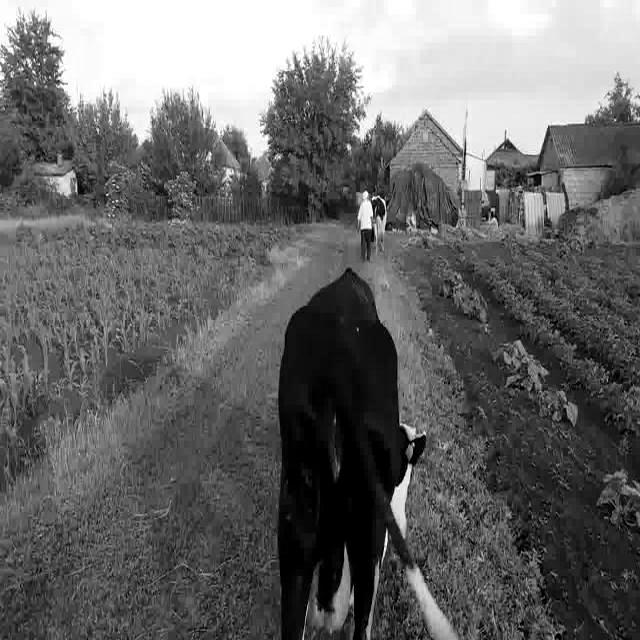COW: (278, 269, 456, 640)
